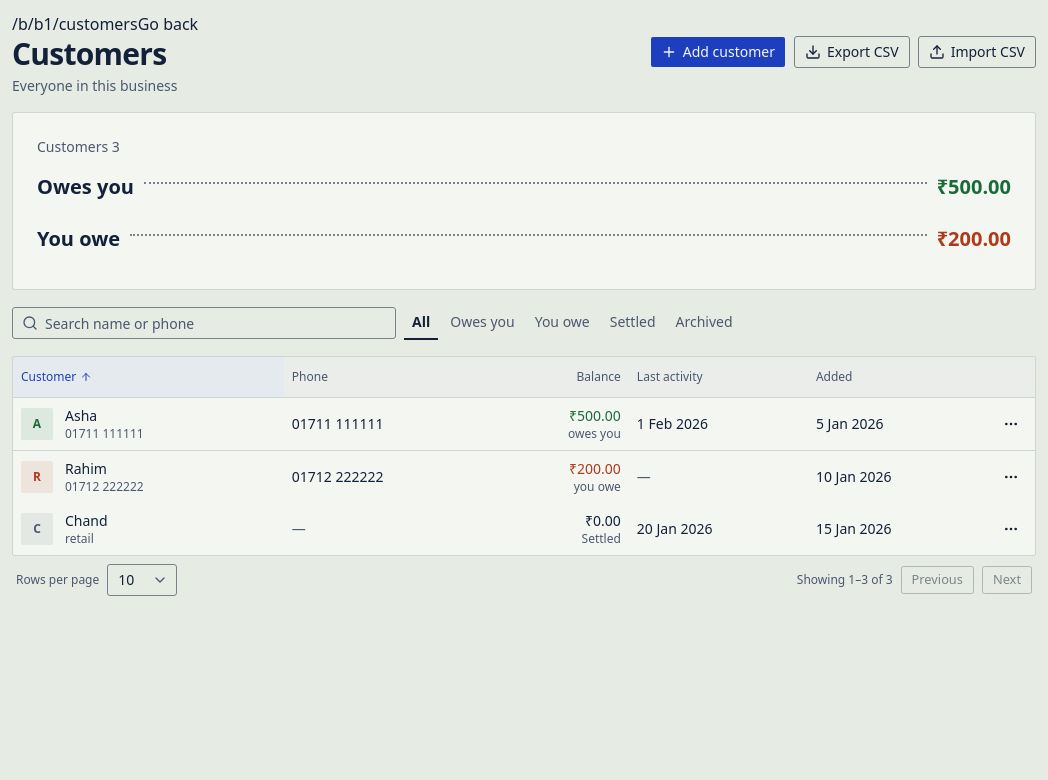
Test: S-28 customers list › opens the customer detail from a row
Click the text "Asha" at (81, 415), box [65, 406, 97, 424]
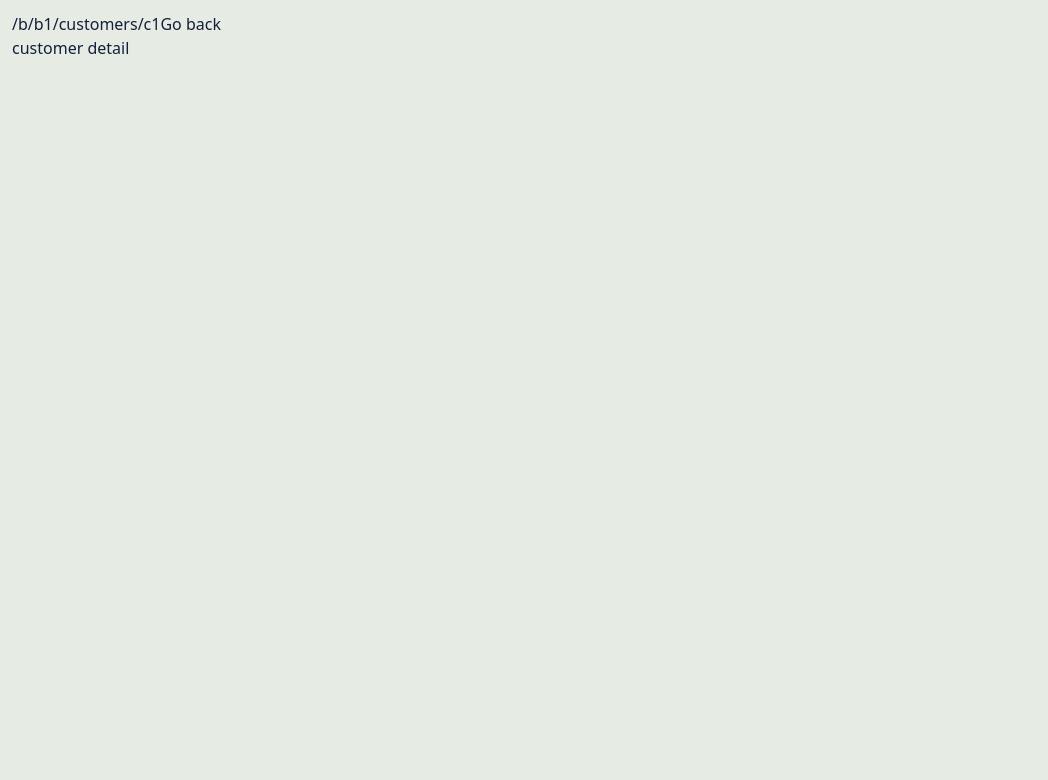
Result: the text with test id "location" reads "/b/b1/customers/c1" at [12, 13, 160, 35]
